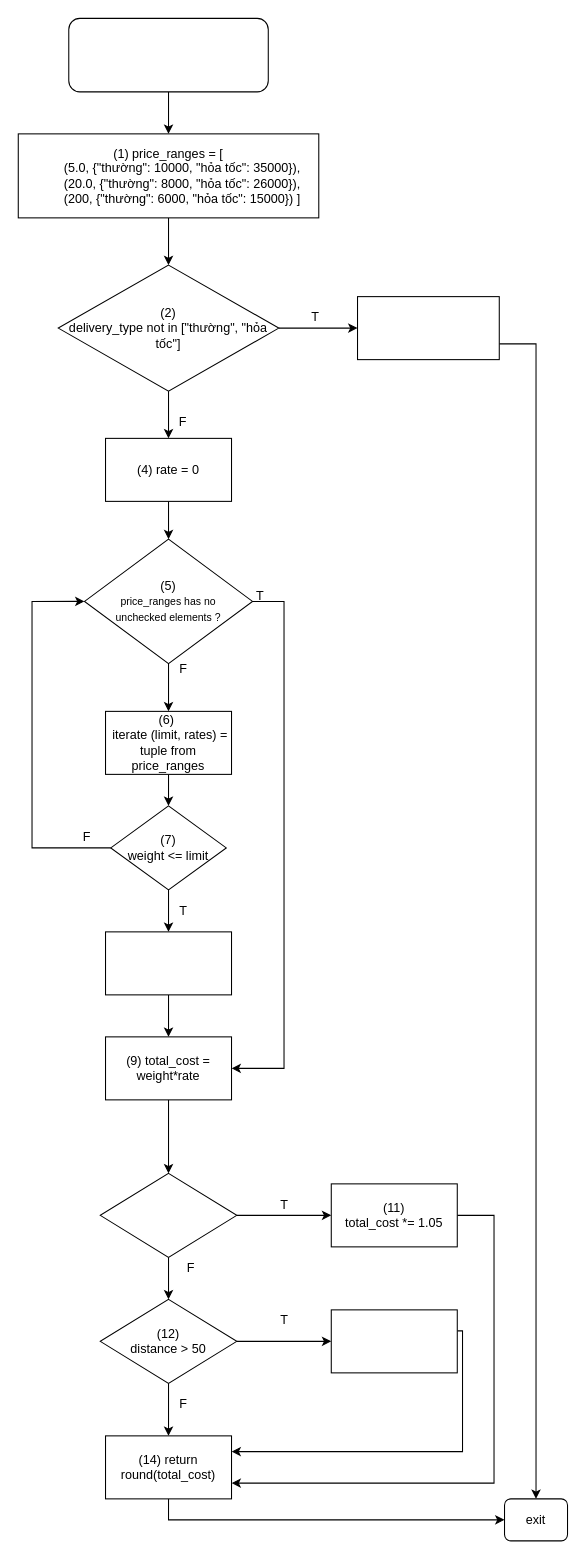
The diagram is 587 pixels wide and 1559 high, and some of its shapes have lost their labels. The centre of each missing label's shape, as x and y in pixels:
(0) delivery_bill(weight: float, delivery_type: str, distance: float): [168,54]
(10) distance < 10: [168,1214]
(13) total_coost *= 1.1: [393,1341]
(3) raise ValueError("Loại dịch vụ không hợp lệ!"): [427,328]
(8) rate = rates[delivery_type] break: [168,963]
